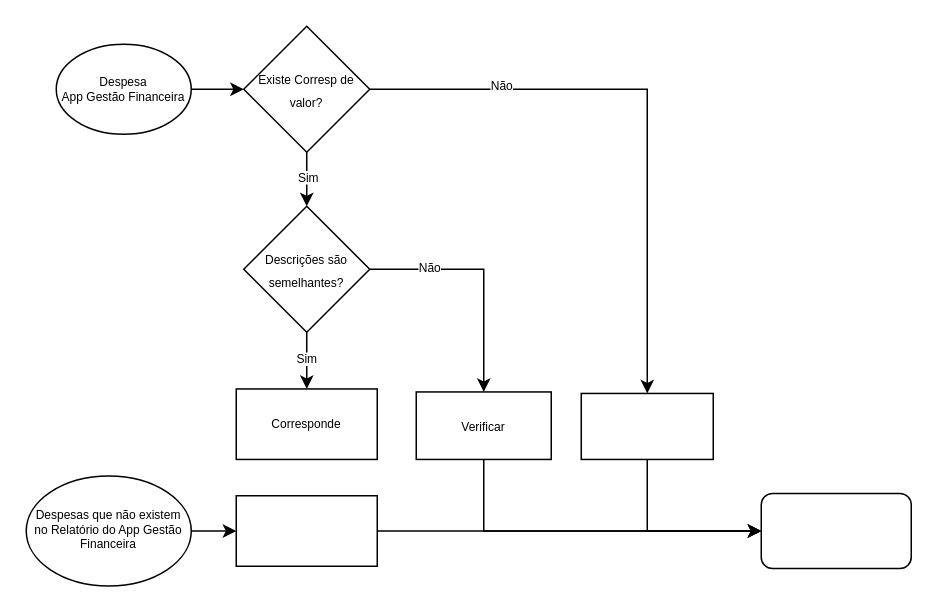
Image size: 938x614. Some labels were removed from this diagram. Each missing label, with the centre of its shape:
Adicionar: point (306, 530)
Excluir: point (646, 425)
Relatório Final: point (835, 530)
